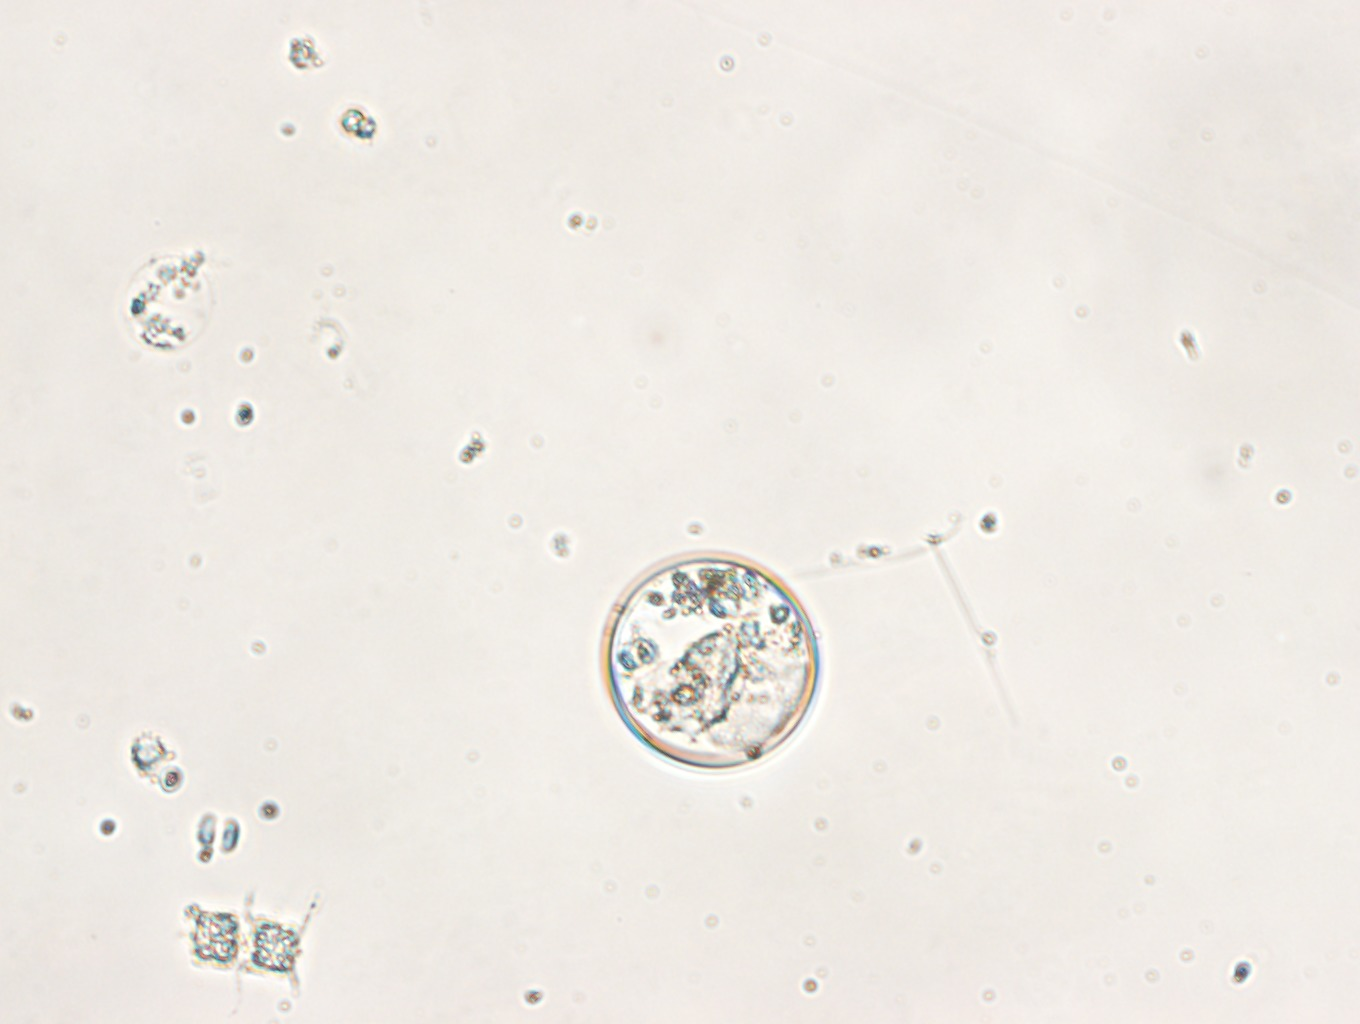coscinodiscus: (607, 556, 817, 768)
